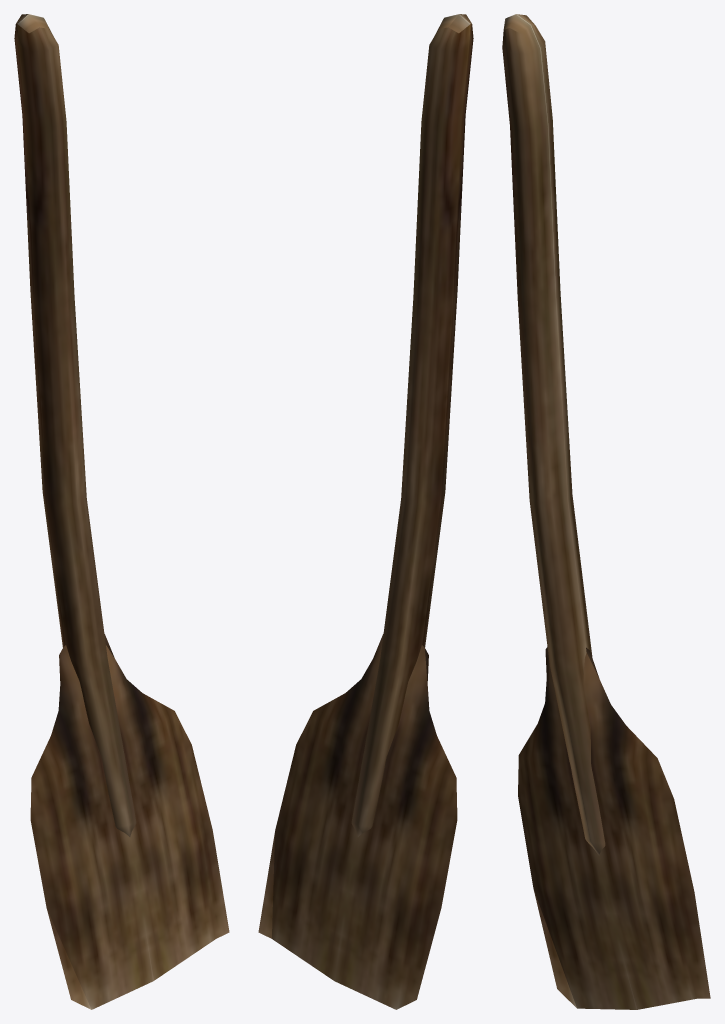
Rendered from paddle_B.fbx.
The picture shows the model from 3 angles, left to right: view 1: azimuth 30°, elevation 25°; view 2: azimuth 150°, elevation 25°; view 3: azimuth 330°, elevation 25°; orthographic projection. The views are drawn at different scales.
Visible parts, largest first — view 1: paddleB_oar, paddleB_handle; view 2: paddleB_oar, paddleB_handle; view 3: paddleB_oar, paddleB_handle.
Part boxes in pixels (x1,y1,x2,y2): paddleB_oar: (30,634,229,1009); paddleB_handle: (14,14,136,836); paddleB_oar: (258,634,457,1009); paddleB_handle: (351,14,473,836); paddleB_oar: (518,647,710,1009); paddleB_handle: (502,14,605,855).
Size of the model in its own units: 45.27 by 206 by 8.78.
1 material, 1 textured.
